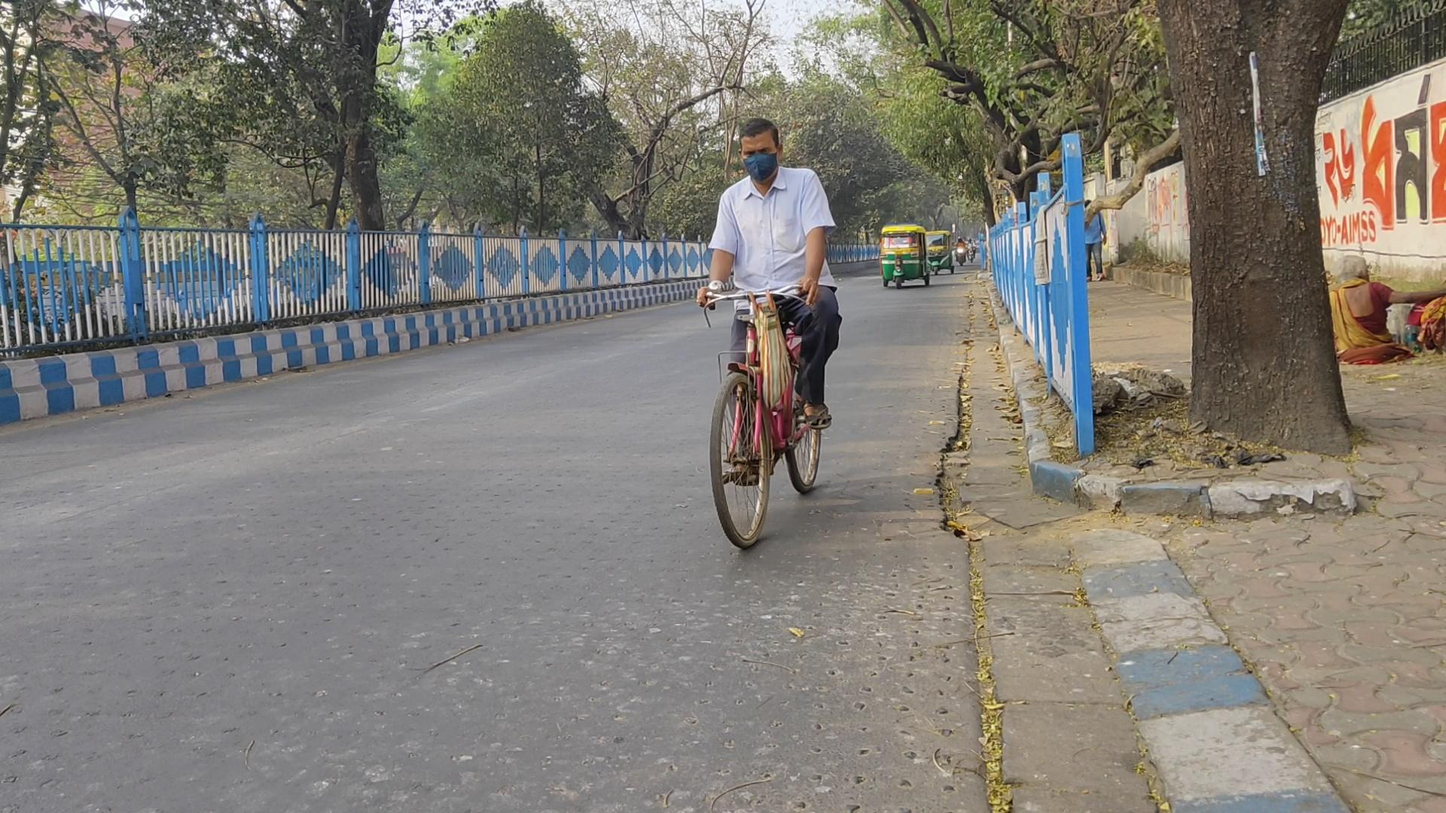Auto: (878, 223, 929, 291), (925, 230, 954, 276)
bike: (694, 117, 839, 548), (954, 236, 967, 266), (966, 236, 978, 264)
